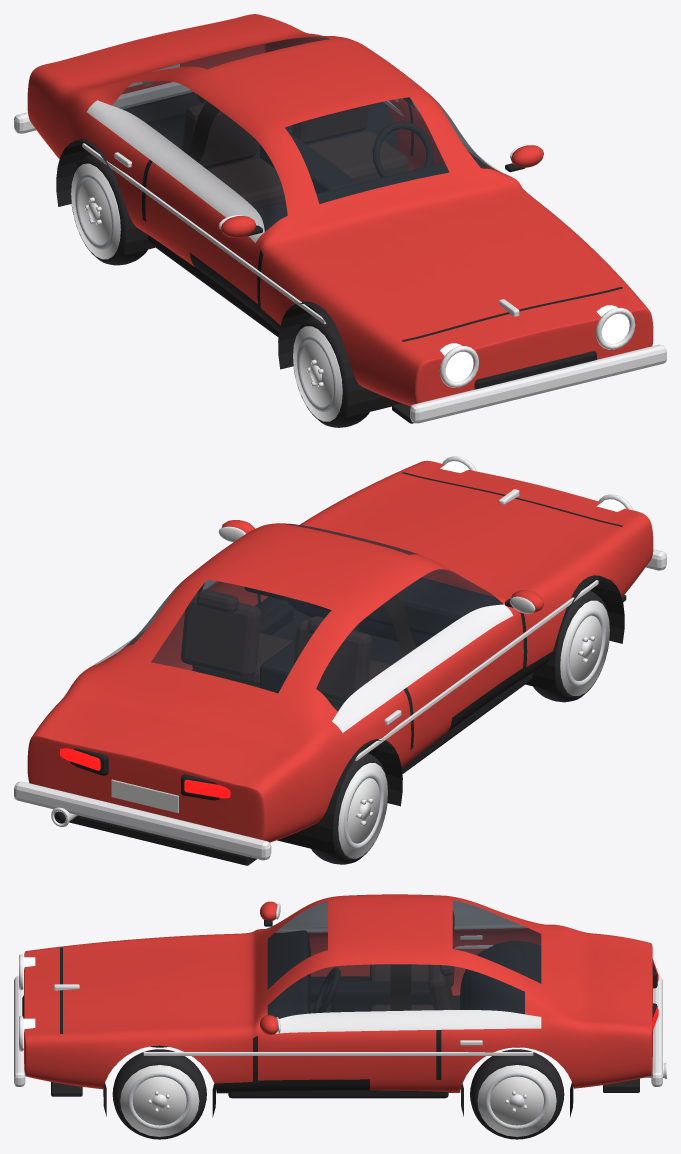
File: vira.glb
The picture shows the model from 3 angles, top to bottom: view 1: azimuth 30°, elevation 25°; view 2: azimuth 150°, elevation 25°; view 3: azimuth 270°, elevation 25°; orthographic projection. The views are drawn at different scales.
Parts seen in each view (by area): view 1: body, wheel_fr, wheel_rr; view 2: body, wheel_rr, wheel_fr; view 3: body, wheel_fl, wheel_rl.
Part boxes in pixels (left/top/right/bottom): body: left=14, top=14, right=666, bottom=423; wheel_fr: left=292, top=313, right=369, bottom=427; wheel_rr: left=71, top=151, right=147, bottom=265; body: left=14, top=456, right=666, bottom=865; wheel_rr: left=311, top=750, right=388, bottom=864; wheel_fr: left=533, top=588, right=609, bottom=702; body: left=14, top=894, right=666, bottom=1117; wheel_fl: left=112, top=1049, right=206, bottom=1139; wheel_rl: left=470, top=1049, right=564, bottom=1139.
Size of the model in its own units: 2.09 by 1.32 by 4.57.
